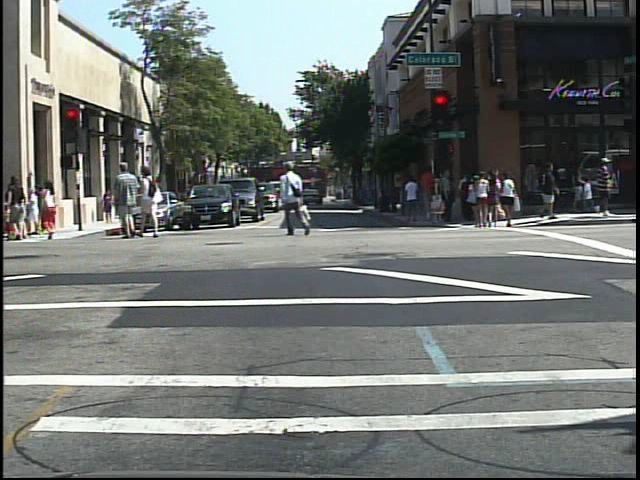person: (275, 156, 308, 241), (588, 156, 621, 220), (112, 161, 138, 239), (6, 171, 32, 246), (38, 175, 65, 244), (139, 164, 162, 238), (469, 175, 485, 232)
